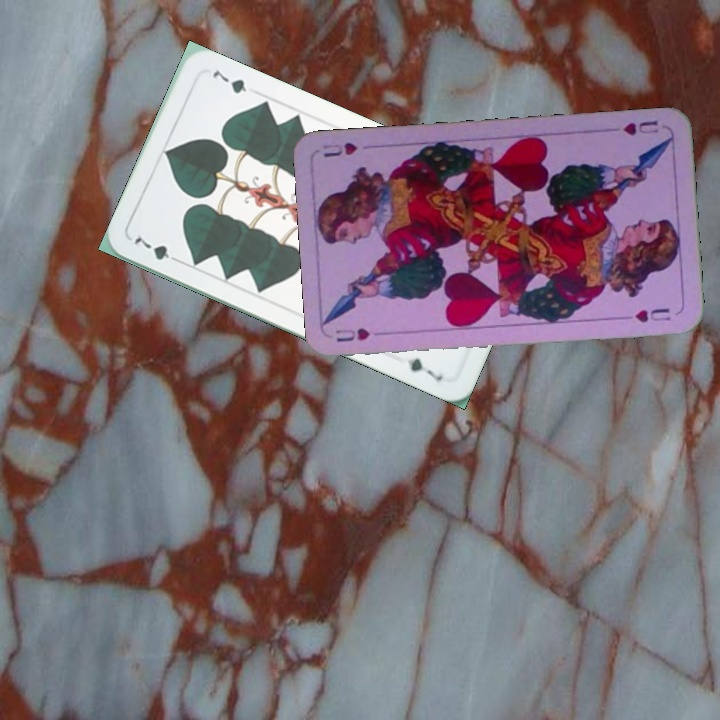G7: (130, 232, 184, 266)
HU: (619, 117, 661, 138), (332, 324, 372, 345)
